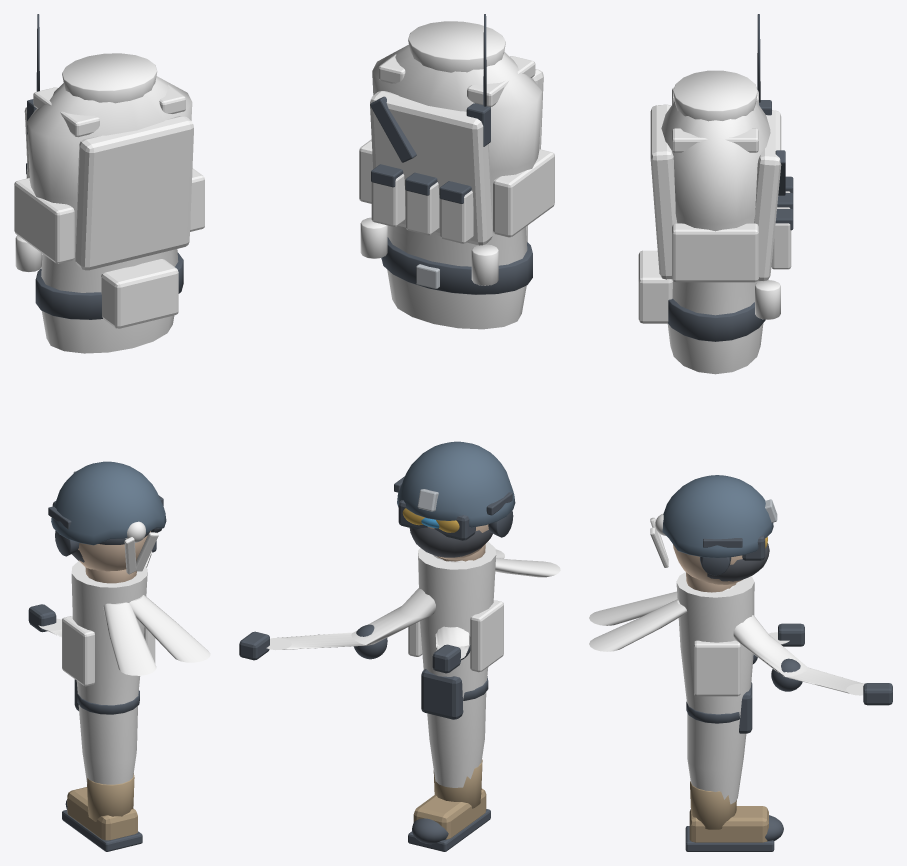
Rendered from soldiers_highpoly.glb.
The picture shows the model from 3 angles, left to right: view 1: azimuth 30°, elevation 25°; view 2: azimuth 150°, elevation 25°; view 3: azimuth 270°, elevation 25°; orthographic projection. The views are drawn at different scales.
Visible parts, largest first — view 1: BL_Torso, BL_LegL, GR_Head, BL_Head, FPS_ArmL_BL, FPS_ArmR_BL, BL_ArmR; view 2: BL_Torso, BL_LegL, GR_Head, BL_ArmL, BL_Head, BL_ArmR, FPS_ArmL_BL; view 3: BL_Torso, BL_LegL, GR_Head, BL_ArmL, BL_LegR, BL_Head, FPS_ArmR_BL, FPS_ArmL_BL, BL_ArmR.
Part boxes in pixels (x1=…): BL_Torso: x1=14, y1=14, x2=204, y2=353; BL_LegL: x1=62, y1=561, x2=147, y2=851; GR_Head: x1=48, y1=461, x2=166, y2=556; BL_Head: x1=72, y1=521, x2=158, y2=583; FPS_ArmL_BL: x1=103, y1=602, x2=156, y2=675; FPS_ArmR_BL: x1=129, y1=595, x2=210, y2=662; BL_ArmR: x1=28, y1=604, x2=61, y2=637; BL_Torso: x1=359, y1=14, x2=554, y2=329; BL_LegL: x1=408, y1=542, x2=503, y2=851; GR_Head: x1=394, y1=441, x2=515, y2=540; BL_ArmL: x1=239, y1=560, x2=472, y2=660; BL_Head: x1=402, y1=508, x2=492, y2=561; BL_ArmR: x1=432, y1=555, x2=470, y2=673; FPS_ArmL_BL: x1=495, y1=558, x2=560, y2=577; BL_Torso: x1=638, y1=14, x2=793, y2=374; BL_LegL: x1=676, y1=572, x2=783, y2=851; GR_Head: x1=662, y1=475, x2=777, y2=575; BL_ArmL: x1=733, y1=615, x2=892, y2=705; BL_LegR: x1=694, y1=640, x2=740, y2=696; BL_Head: x1=650, y1=513, x2=769, y2=592; FPS_ArmR_BL: x1=589, y1=599, x2=687, y2=651; FPS_ArmL_BL: x1=589, y1=591, x2=677, y2=625; BL_ArmR: x1=723, y1=583, x2=804, y2=663.
Bounding box in the file's own units: 0.633 × 2.46 × 0.841.
